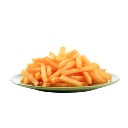frenchfries: (21, 46, 112, 86)
